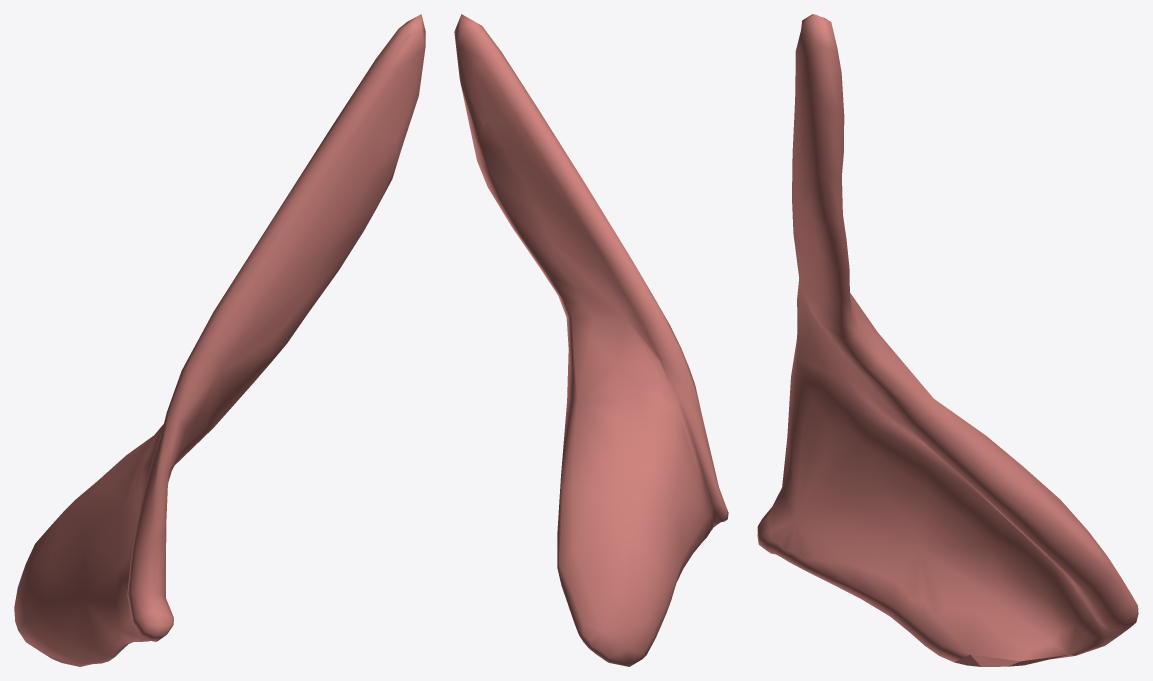
3 views of the same model, side by side, from view 1: azimuth 30°, elevation 25°; view 2: azimuth 150°, elevation 25°; view 3: azimuth 270°, elevation 25° (orthographic). The views are drawn at different scales.
Parts seen in each view (by area): view 1: ZA_90dc6e0f8a689764; view 2: ZA_90dc6e0f8a689764; view 3: ZA_90dc6e0f8a689764.
Part boxes in pixels (<box>): ZA_90dc6e0f8a689764: <box>14,14,425,666</box>; ZA_90dc6e0f8a689764: <box>454,14,728,666</box>; ZA_90dc6e0f8a689764: <box>757,14,1138,666</box>.
Size of the model in its own units: 0.00523 by 0.00994 by 0.00413.
